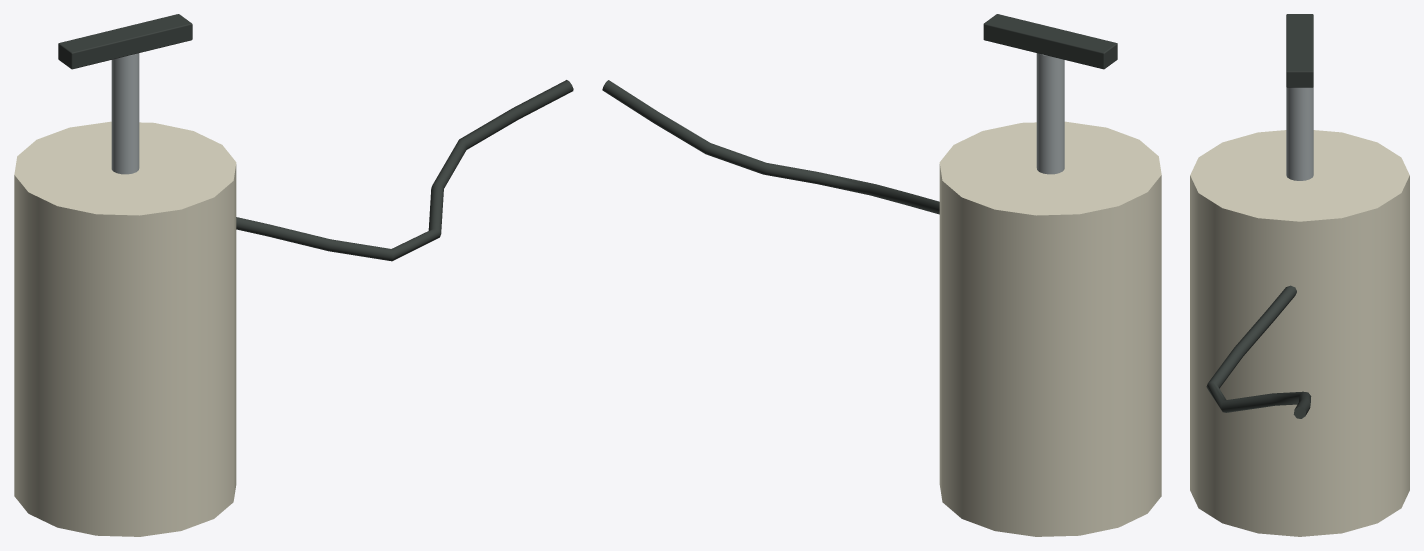
Rendered from field-medicine-and-recovery-disinfectant-sprayer-1131821c__3068.glb.
3 views of the same model, side by side, from view 1: azimuth 30°, elevation 25°; view 2: azimuth 150°, elevation 25°; view 3: azimuth 270°, elevation 25° (orthographic).
Parts seen in each view (by area): view 1: disinfectant-sprayer; view 2: disinfectant-sprayer; view 3: disinfectant-sprayer.
Part boxes in pixels (left/top/right/bottom): disinfectant-sprayer: left=14, top=14, right=573, bottom=536; disinfectant-sprayer: left=602, top=14, right=1161, bottom=536; disinfectant-sprayer: left=1190, top=14, right=1409, bottom=536.
Bounding box in the file's own units: 0.6721 × 0.54 × 0.24.
